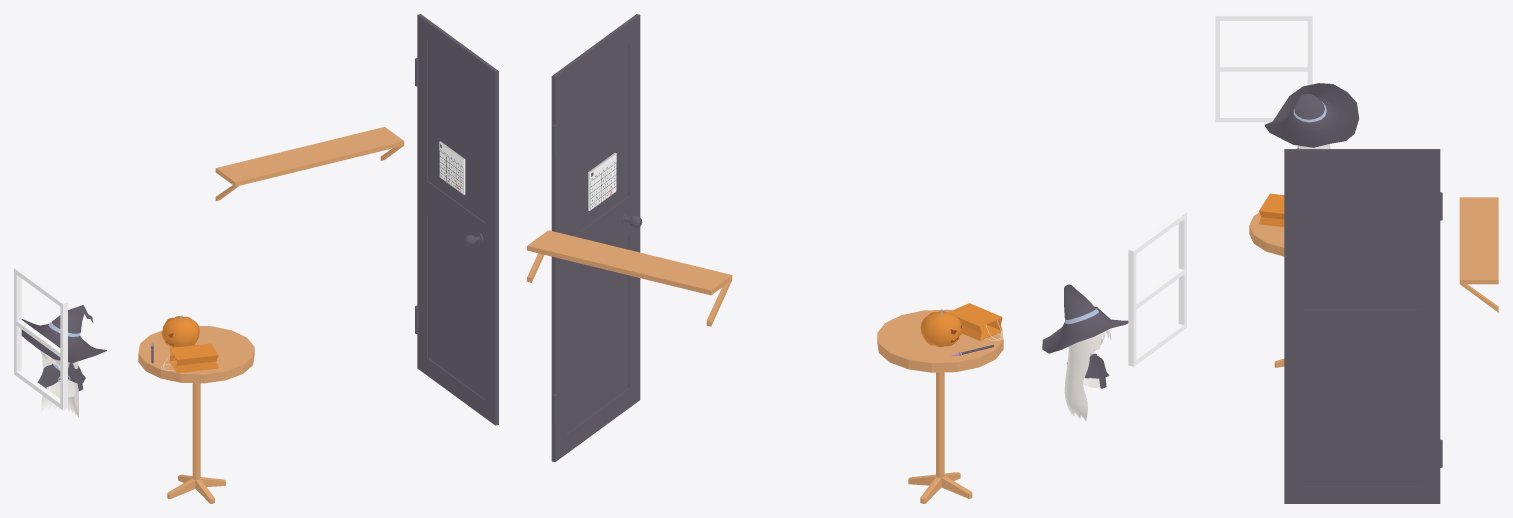
3 views of the same model, side by side, from view 1: azimuth 30°, elevation 25°; view 2: azimuth 150°, elevation 25°; view 3: azimuth 270°, elevation 25° (orthographic). The views are drawn at different scales.
Parts seen in each view (by area): view 1: door, bedside table, shelf, character, window, trick or treat bag, calendar, jack o' lantern; view 2: door, bedside table, shelf, character, window, trick or treat bag, jack o' lantern, calendar; view 3: door, character, shelf, window, bedside table, trick or treat bag.
Boxes of the visible parts, x1,y1,x2,y2 form: door: (415,14,498,425); bedside table: (138,326,254,503); shelf: (215,127,404,200); character: (21,305,106,417); window: (14,267,67,409); trick or treat bag: (161,343,218,373); calendar: (439,141,465,194); jack o' lantern: (161,315,199,347); door: (551,14,642,461); bedside table: (877,309,1003,503); shelf: (527,230,732,326); character: (1042,284,1128,420); window: (1128,211,1186,366); trick or treat bag: (948,303,1002,340); jack o' lantern: (920,309,962,347); calendar: (588,153,616,210); door: (1284,149,1442,503); character: (1264,83,1359,148); shelf: (1459,197,1498,312); window: (1215,14,1312,122); bedside table: (1249,212,1284,367); trick or treat bag: (1259,193,1284,226).
Size of what is drawn, in the model's own units: 2.78 by 2.03 by 1.46.
10 materials, 9 textured.
